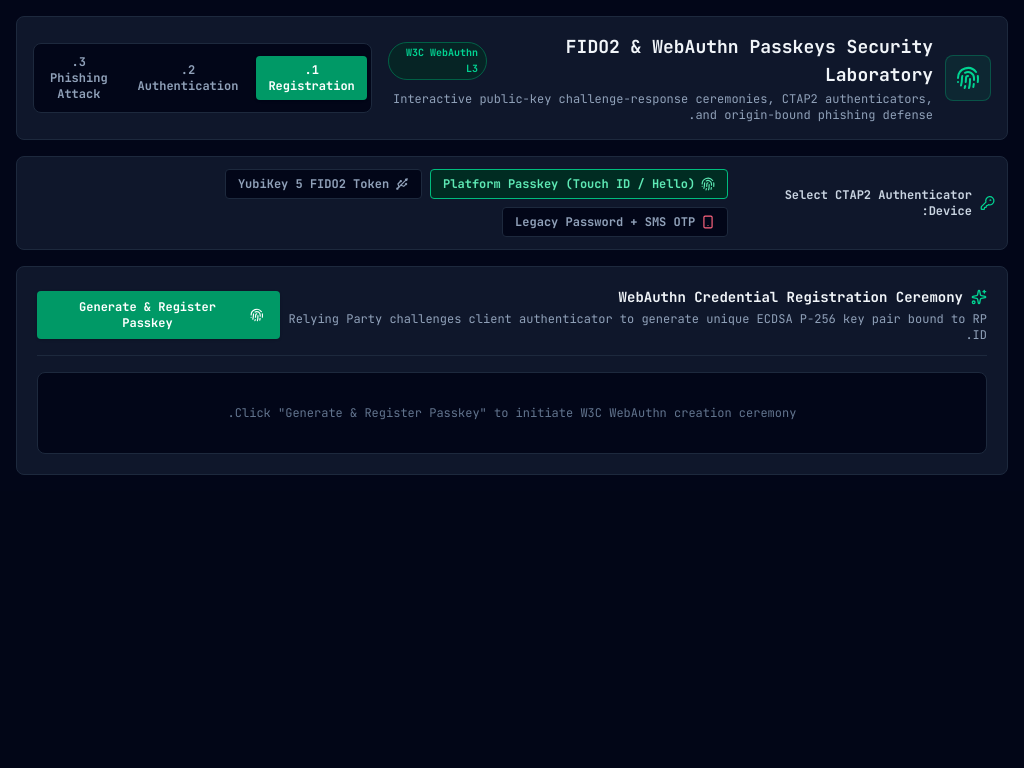
Scenario: WebAuthnLab › completes passkey registration ceremony
The width and height of the screenshot is (1024, 768).
Click the button "Generate & Register Passkey": coordinates (158, 315) 37,291 -> 280,339
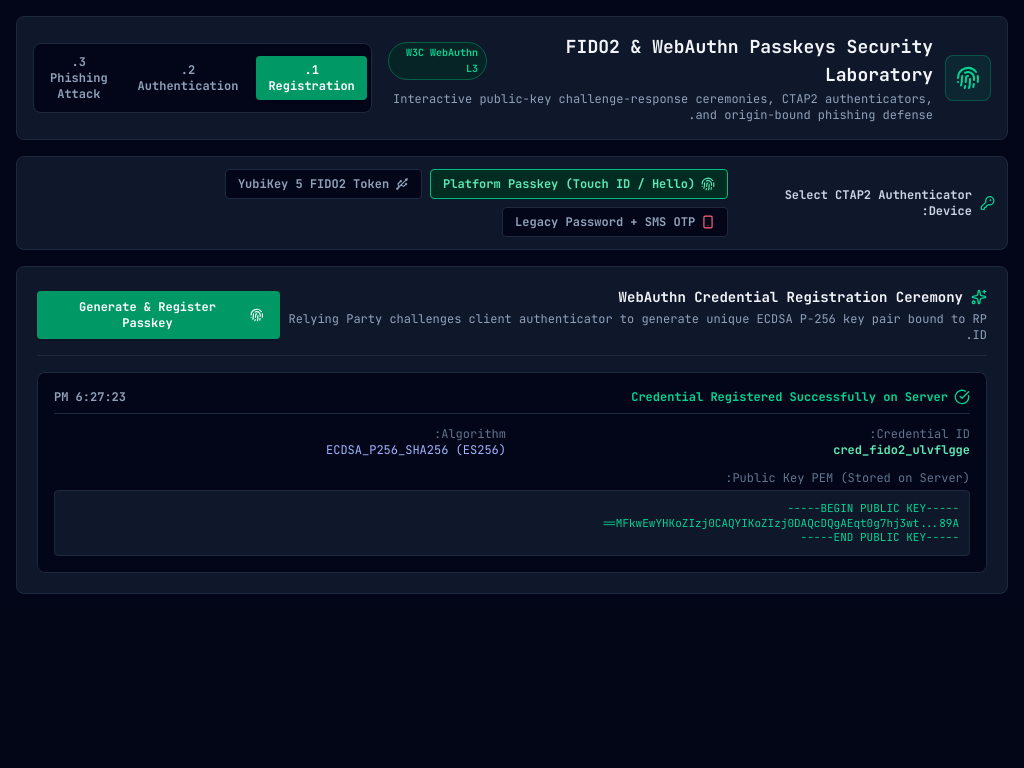
Now the text "Credential Registered Successfully on Server" is shown, box 631,389 -> 970,405
